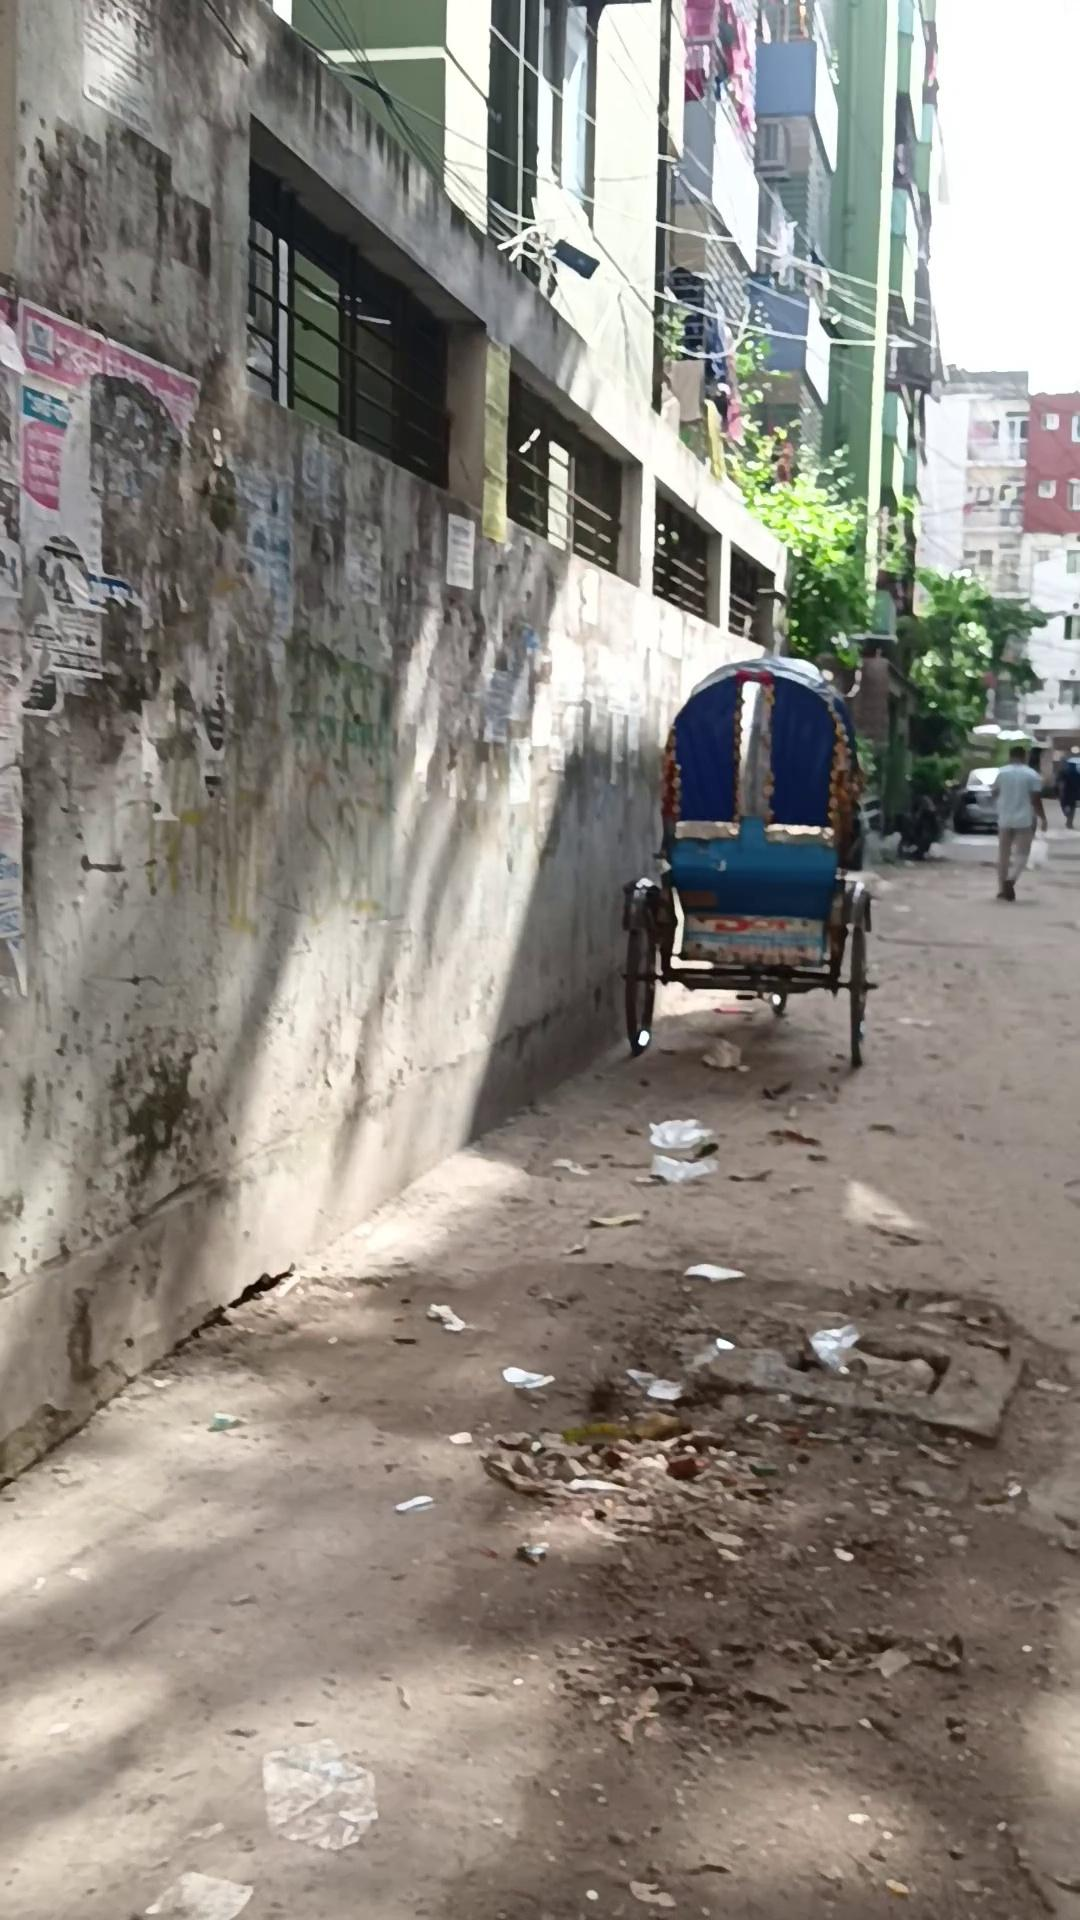Broken-road: (572, 1290, 1080, 1920)
Car: (949, 765, 1002, 833)
Muddy road: (988, 744, 1046, 901), (1055, 746, 1079, 829)
Pothole: (618, 654, 876, 1068)
Tree: (0, 298, 620, 1577)
